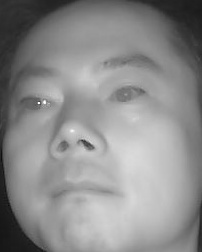eye: (19, 89, 59, 116), (104, 83, 146, 108)
mouth: (44, 170, 128, 212)
